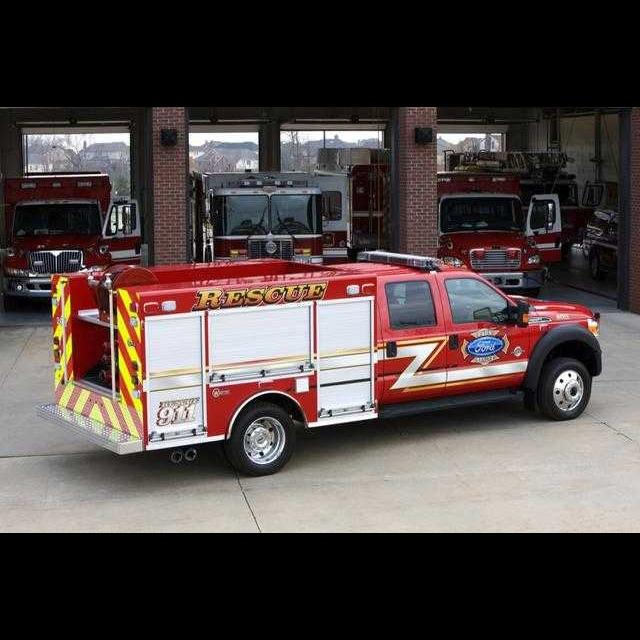emergency: (34, 250, 602, 476)
